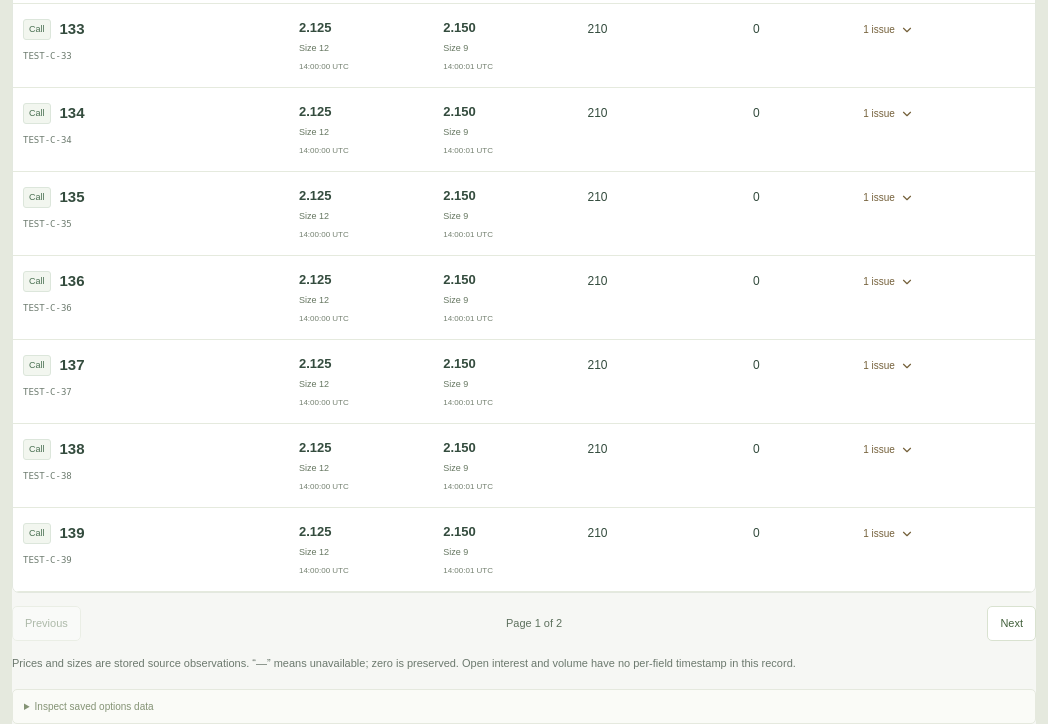
Scenario: saved options-chain inspector › paginates the same saved record and resets paging when filters change
(page scrolled)
Click the button "Next" at [1012, 623], box [987,606,1036,640]
(page scrolled)
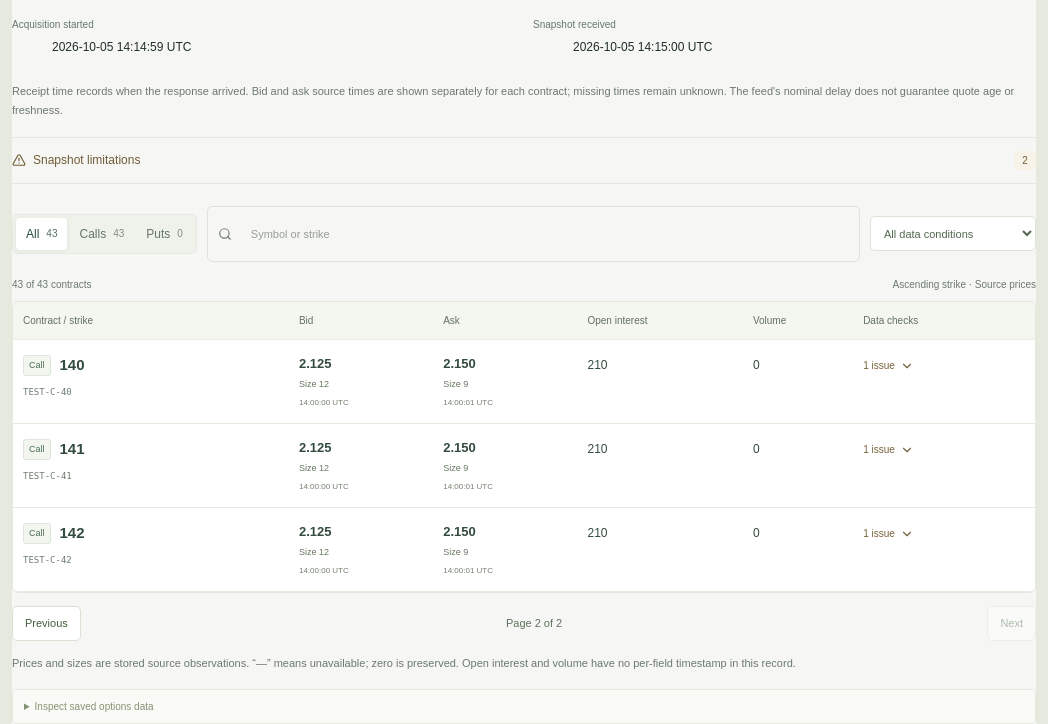
Expected: the text "Page 2 of 2" is shown, [506,615,562,632]
Type "TEST-C-0" into the field named "Search symbol or strike" at [544, 234], box [239,216,849,252]
(page scrolled)
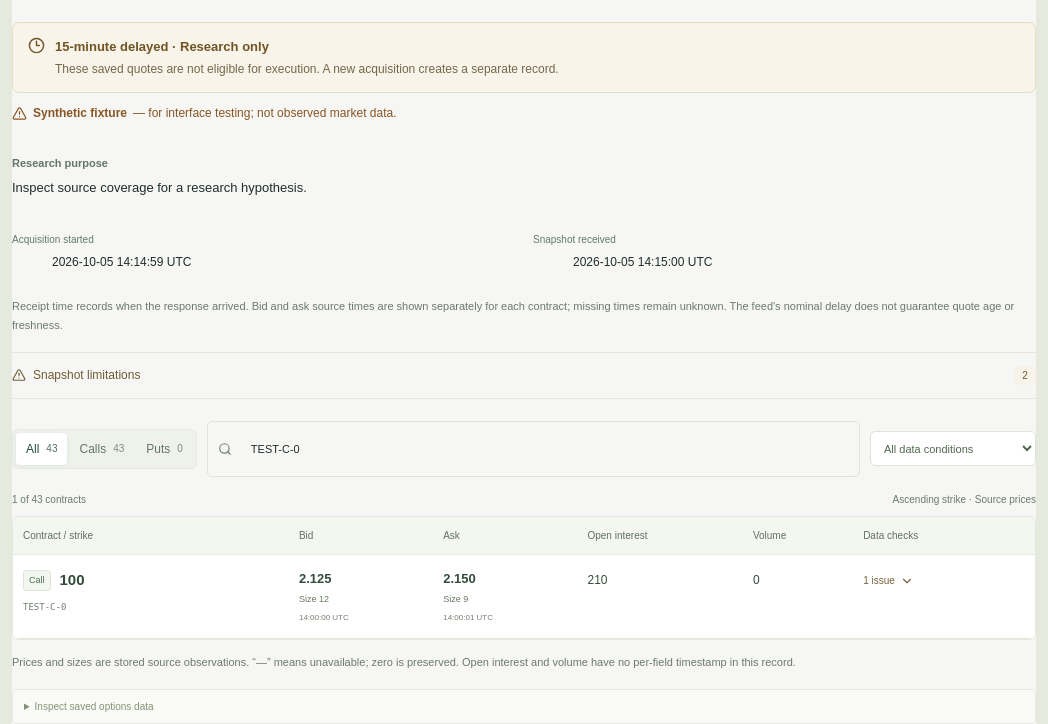
Expected: the text "TEST-C-0" is shown, [23,602,66,612]
